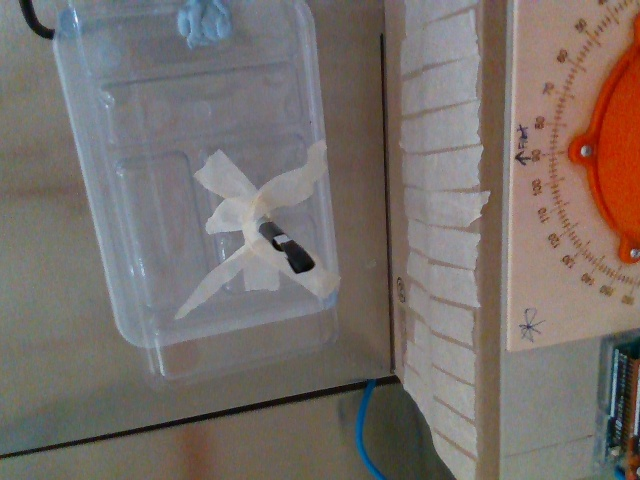test_strip: (270, 233, 312, 271)
